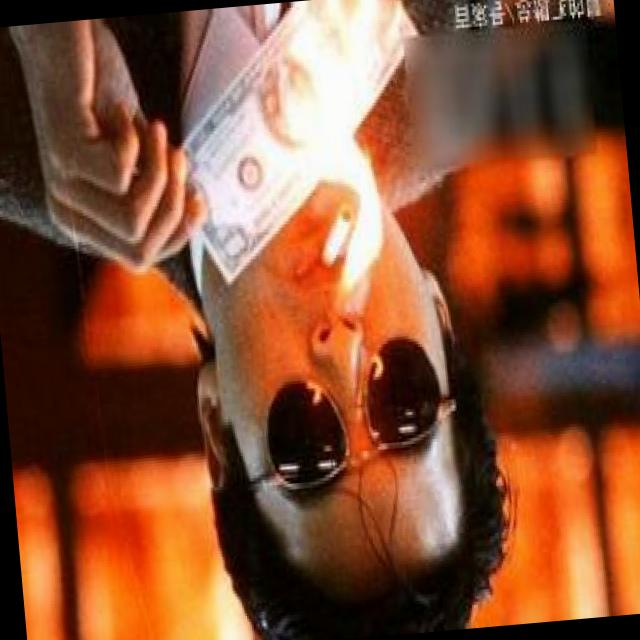smoke: (318, 202, 358, 274)
